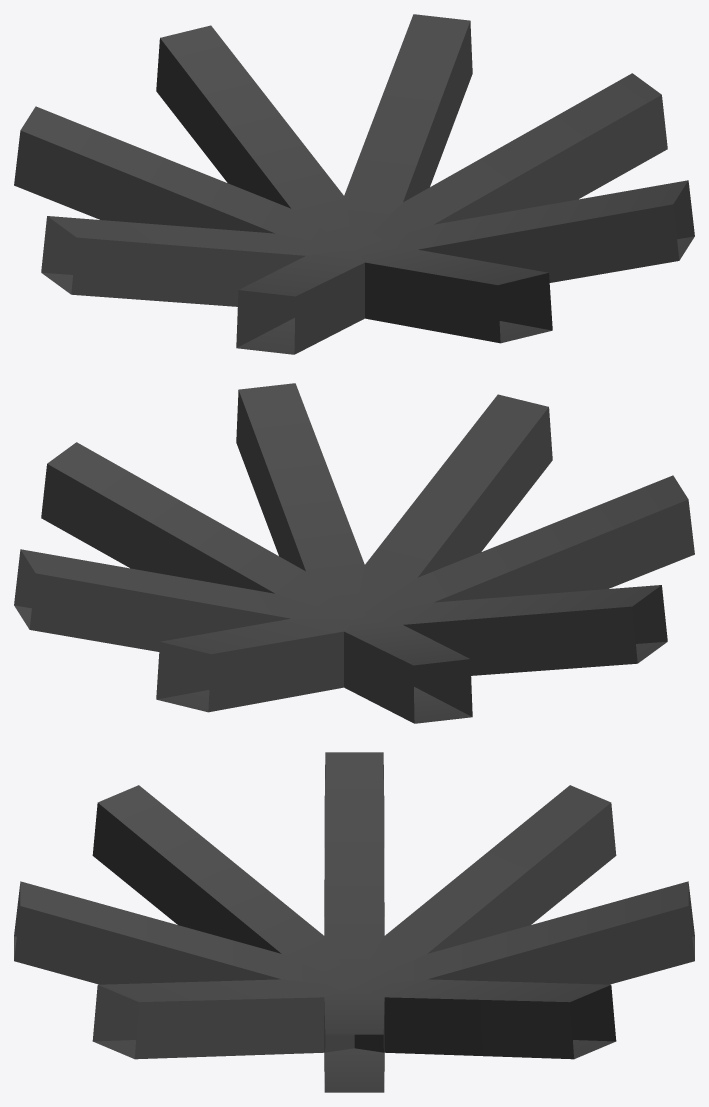
File: Itr_Lamp_Frame_01.FBX
The picture shows the model from 3 angles, top to bottom: view 1: azimuth 30°, elevation 25°; view 2: azimuth 150°, elevation 25°; view 3: azimuth 270°, elevation 25°; orthographic projection.
Visible parts, largest first — view 1: Itr_Lamp_Frame_01; view 2: Itr_Lamp_Frame_01; view 3: Itr_Lamp_Frame_01.
Boxes of the visible parts, bbox=[...] form: Itr_Lamp_Frame_01: bbox=[14, 14, 694, 354]; Itr_Lamp_Frame_01: bbox=[14, 383, 694, 723]; Itr_Lamp_Frame_01: bbox=[14, 752, 694, 1092].
Bounding box in the file's own units: 7.25 × 1.74 × 7.25.
